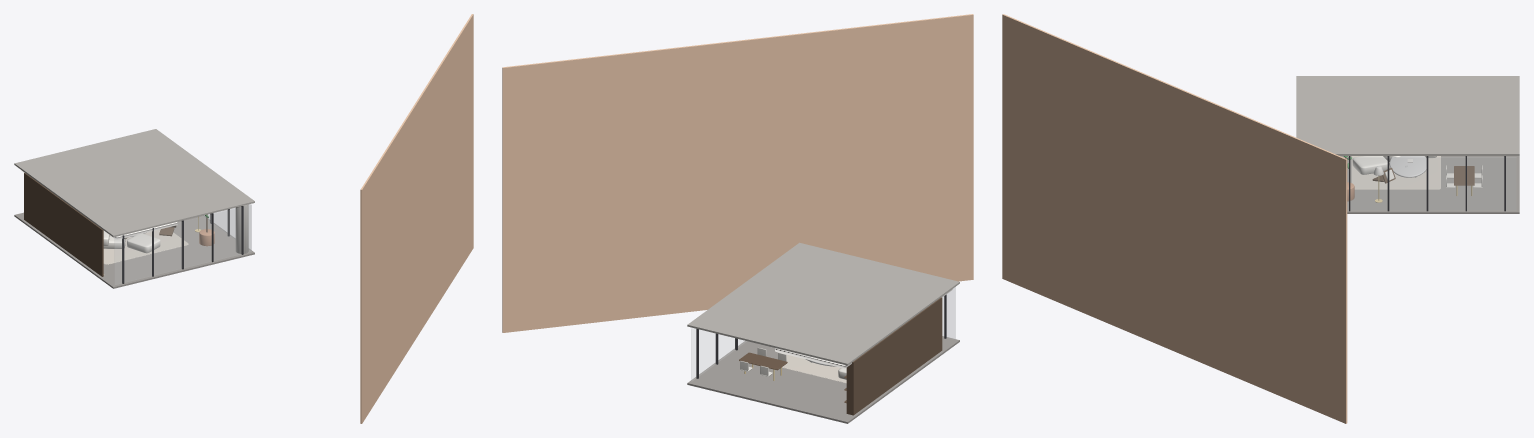
Rendered from penthouse_interior_3d.fbx.
3 views of the same model, side by side, from view 1: azimuth 30°, elevation 25°; view 2: azimuth 150°, elevation 25°; view 3: azimuth 270°, elevation 25° (orthographic). The views are drawn at different scales.
Parts seen in each view (by area): view 1: Sky_Sunset_Backdrop, Ceiling_Concrete, Glass_Front, Floor, Wall_Left_Back, Area_Rug, Bookcase_Niche, Column_Concrete, Glass_Right, Sofa_M3_Seat; view 2: Sky_Sunset_Backdrop, Ceiling_Concrete, Floor, Wall_Left_Back, Bookcase_Niche, Glass_Right, Area_Rug, Glass_Front, DiningTable_Top; view 3: Sky_Sunset_Backdrop, Ceiling_Concrete, Glass_Right, Floor, Area_Rug, CoffeeTable_Top, Sofa_M3_Seat.
Part boxes in pixels (<box>): Sky_Sunset_Backdrop: <box>360,14,473,423</box>; Ceiling_Concrete: <box>14,129,254,237</box>; Glass_Front: <box>114,205,251,284</box>; Floor: <box>14,212,254,288</box>; Wall_Left_Back: <box>40,185,103,276</box>; Area_Rug: <box>103,229,188,264</box>; Bookcase_Niche: <box>24,172,43,231</box>; Column_Concrete: <box>235,204,248,253</box>; Glass_Right: <box>203,204,251,251</box>; Sofa_M3_Seat: <box>127,233,160,253</box>; Sky_Sunset_Backdrop: <box>502,14,973,332</box>; Ceiling_Concrete: <box>687,242,959,365</box>; Floor: <box>687,336,959,423</box>; Wall_Left_Back: <box>872,297,942,401</box>; Bookcase_Niche: <box>846,346,874,415</box>; Glass_Right: <box>691,328,746,381</box>; Area_Rug: <box>782,354,846,383</box>; Glass_Front: <box>942,287,955,339</box>; DiningTable_Top: <box>739,352,787,370</box>; Sky_Sunset_Backdrop: <box>1002,14,1347,423</box>; Ceiling_Concrete: <box>1296,76,1519,155</box>; Glass_Right: <box>1343,157,1516,209</box>; Floor: <box>1340,156,1519,213</box>; Area_Rug: <box>1351,156,1440,189</box>; CoffeeTable_Top: <box>1389,156,1426,177</box>; Sofa_M3_Seat: <box>1352,156,1387,174</box>.
Size of the model in its own units: 25.62 by 15 by 26.62.
